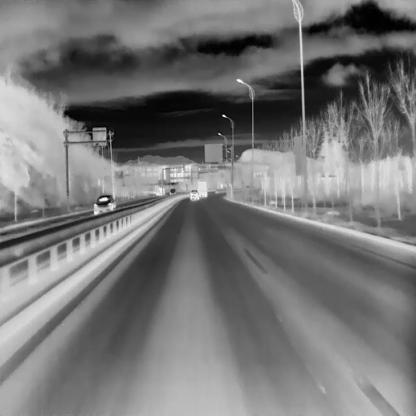car: (93, 194, 115, 215), (198, 181, 206, 197), (189, 189, 199, 200), (169, 187, 175, 194)
